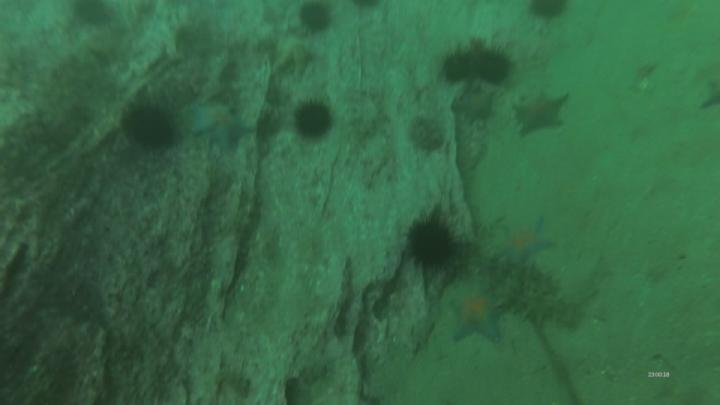echinus: (123, 110, 175, 149), (414, 221, 455, 266), (292, 102, 334, 140), (443, 50, 478, 84), (473, 52, 508, 81), (299, 3, 329, 31)
holothurian: (502, 280, 578, 333)
starfish: (447, 283, 504, 342), (494, 213, 551, 268), (190, 103, 254, 147), (515, 90, 569, 135), (455, 92, 496, 121)
